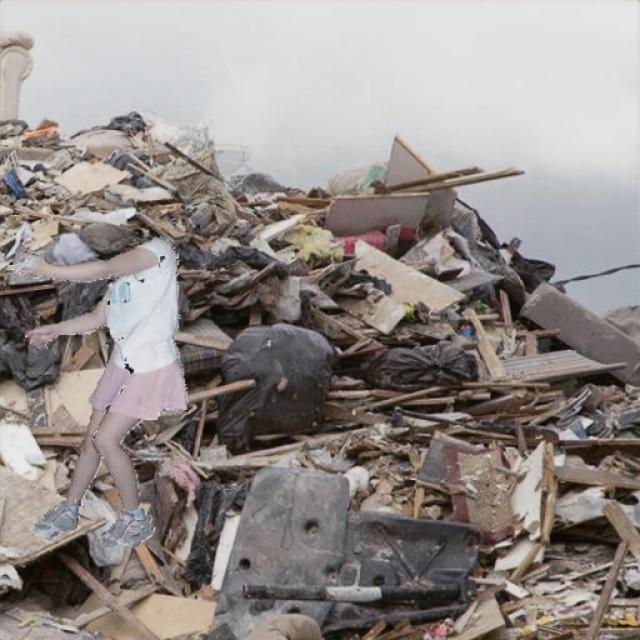Person in Rubble: (6, 236, 188, 546)
